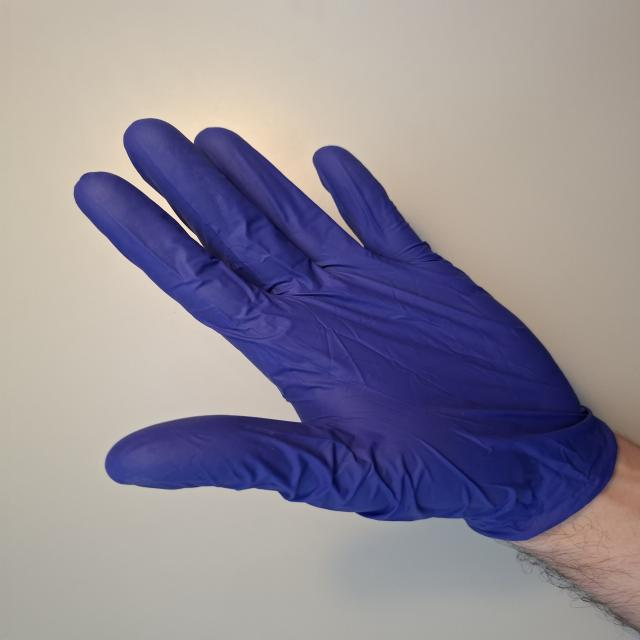glove_on: (71, 117, 633, 544)
